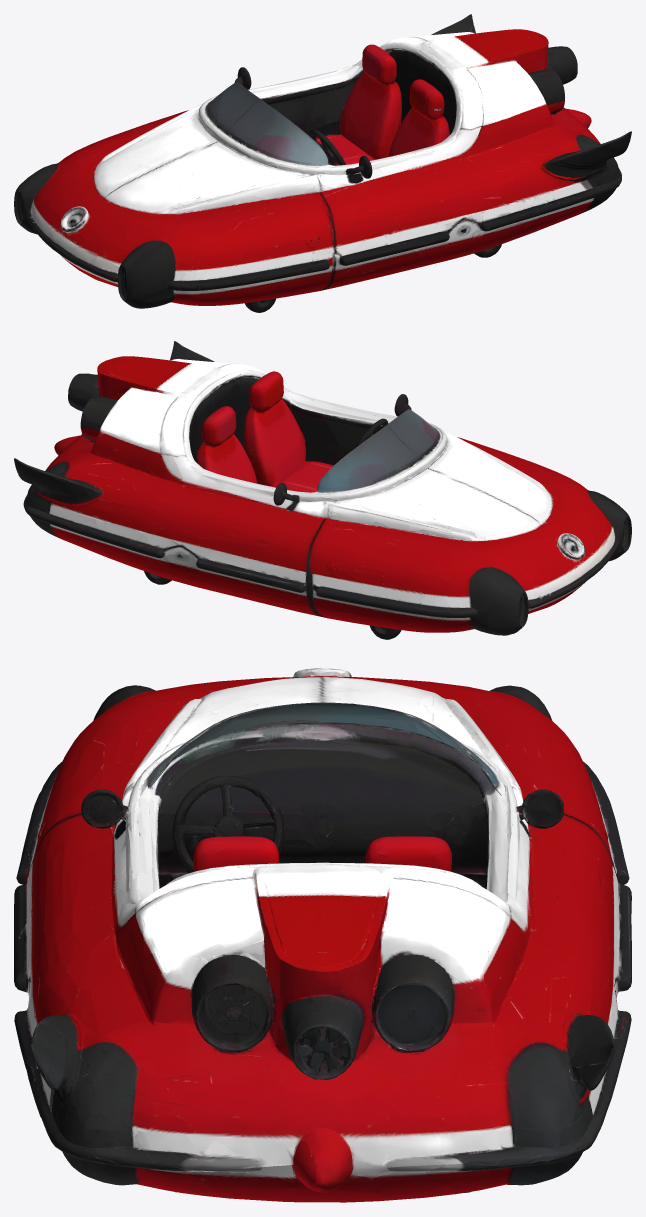
File: ocean-skiff-mesh.glb
The picture shows the model from 3 angles, top to bottom: view 1: azimuth 30°, elevation 25°; view 2: azimuth 150°, elevation 25°; view 3: azimuth 270°, elevation 25°; orthographic projection. The views are drawn at different scales.
Visible parts, largest first — view 1: Mesh_0; view 2: Mesh_0; view 3: Mesh_0.
Part boxes in pixels (bbox=[...]): Mesh_0: bbox=[14, 14, 631, 312]; Mesh_0: bbox=[14, 341, 631, 639]; Mesh_0: bbox=[14, 668, 631, 1202].
Bounding box in the file's own units: 1.9 × 0.5976 × 1.05.
1 material, 1 textured.
